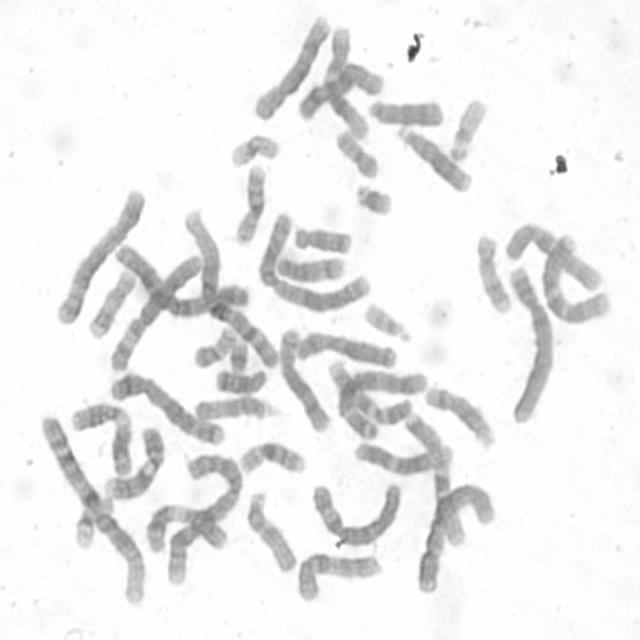A1: (34, 408, 148, 608), (177, 200, 281, 372)
A2: (252, 203, 374, 314), (160, 444, 247, 588)
A3: (109, 235, 252, 317), (330, 361, 430, 438)
B4: (411, 473, 498, 597), (500, 256, 557, 424)
B5: (48, 179, 148, 326), (103, 363, 228, 447)
C10: (498, 214, 605, 292), (289, 544, 384, 604)
C11: (64, 393, 135, 477), (139, 495, 229, 555)
C12: (319, 19, 372, 141), (347, 432, 455, 475)
C6: (102, 244, 204, 374), (304, 472, 405, 547)
C7: (398, 403, 471, 548), (535, 227, 613, 325)
C8: (246, 7, 332, 122), (272, 318, 332, 434)
C9: (323, 353, 412, 428), (98, 418, 166, 500)
D13: (391, 117, 473, 194), (362, 90, 446, 128)
D14: (418, 376, 497, 450), (270, 245, 348, 282)
D15: (240, 482, 299, 574), (187, 386, 282, 424)
E16: (228, 155, 269, 246), (232, 432, 308, 477)
E17: (82, 262, 137, 340), (470, 225, 513, 316)
E18: (287, 217, 354, 256), (210, 361, 270, 395)
F19: (68, 486, 114, 551), (223, 124, 283, 169)
F20: (328, 120, 382, 179), (187, 318, 239, 369)
G21: (349, 174, 396, 218), (222, 332, 250, 374)
G22: (442, 89, 490, 163), (358, 294, 414, 344)
X: (290, 54, 386, 124), (289, 322, 399, 369)
